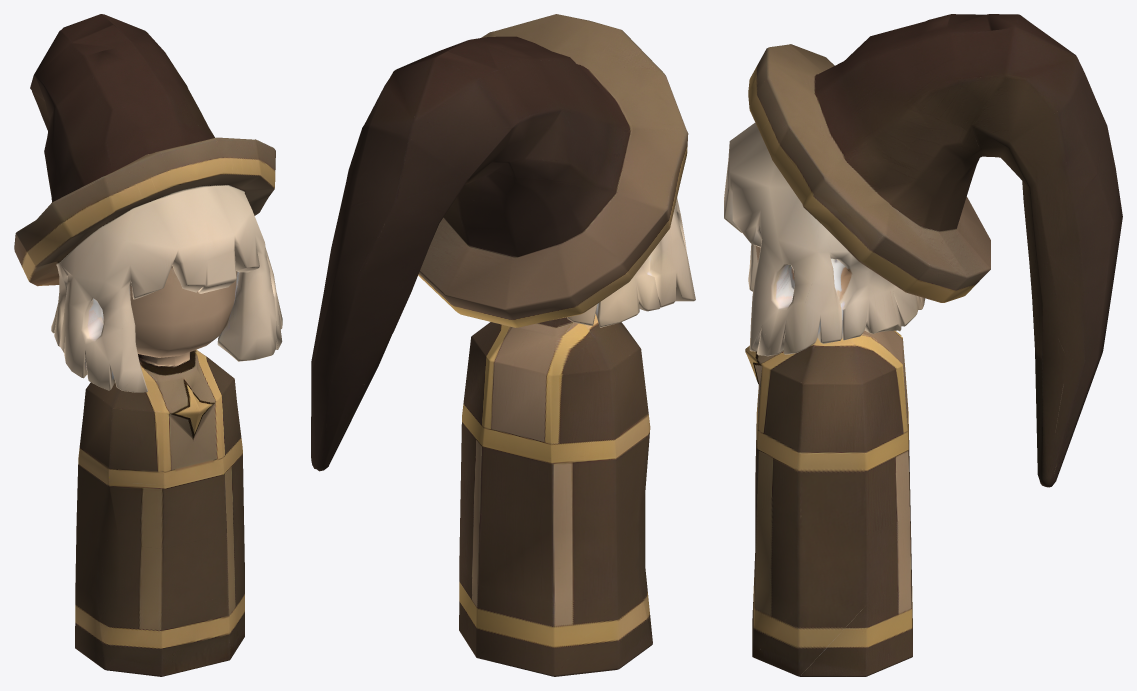
Rendered from Meshy_AI_Papercraft_Wizard_0425081900_texture.fbx.
The picture shows the model from 3 angles, left to right: view 1: azimuth 30°, elevation 25°; view 2: azimuth 150°, elevation 25°; view 3: azimuth 270°, elevation 25°; orthographic projection. The views are drawn at different scales.
Visible parts, largest first — view 1: Mesh_0; view 2: Mesh_0; view 3: Mesh_0.
Part boxes in pixels (bbox=[...]): Mesh_0: bbox=[14, 14, 282, 676]; Mesh_0: bbox=[311, 14, 695, 676]; Mesh_0: bbox=[724, 14, 1122, 676].
Bounding box in the file's own units: 85.71 × 191 × 110.
Materials: 1 (1 with a texture image).
